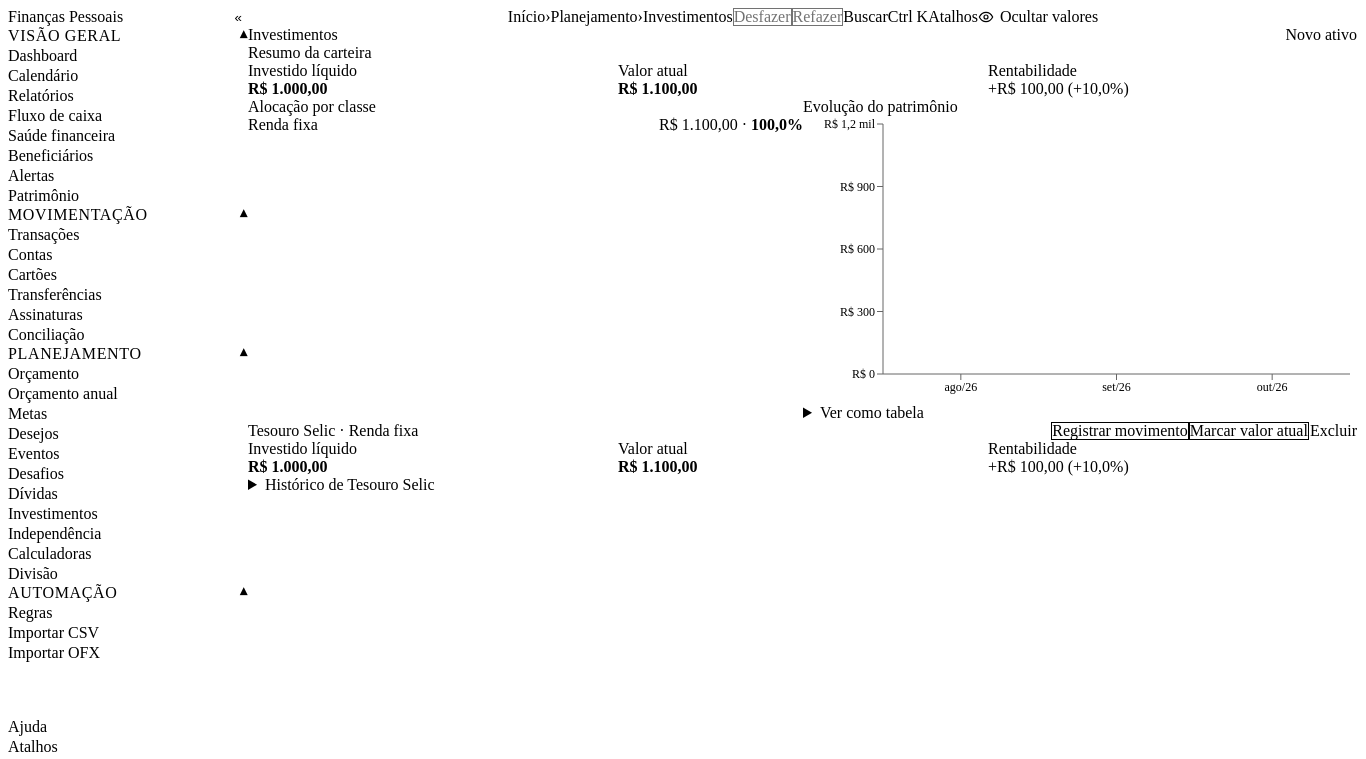
it: investimentos: tela (critérios 2, 11, 14) › critérios 5 e 7: marca o valor atual e mostra perda com sinal
Click the button with aria-label "Marcar valor atual de Tesouro Selic" at point(1249, 431), box [1189,422,1309,440]
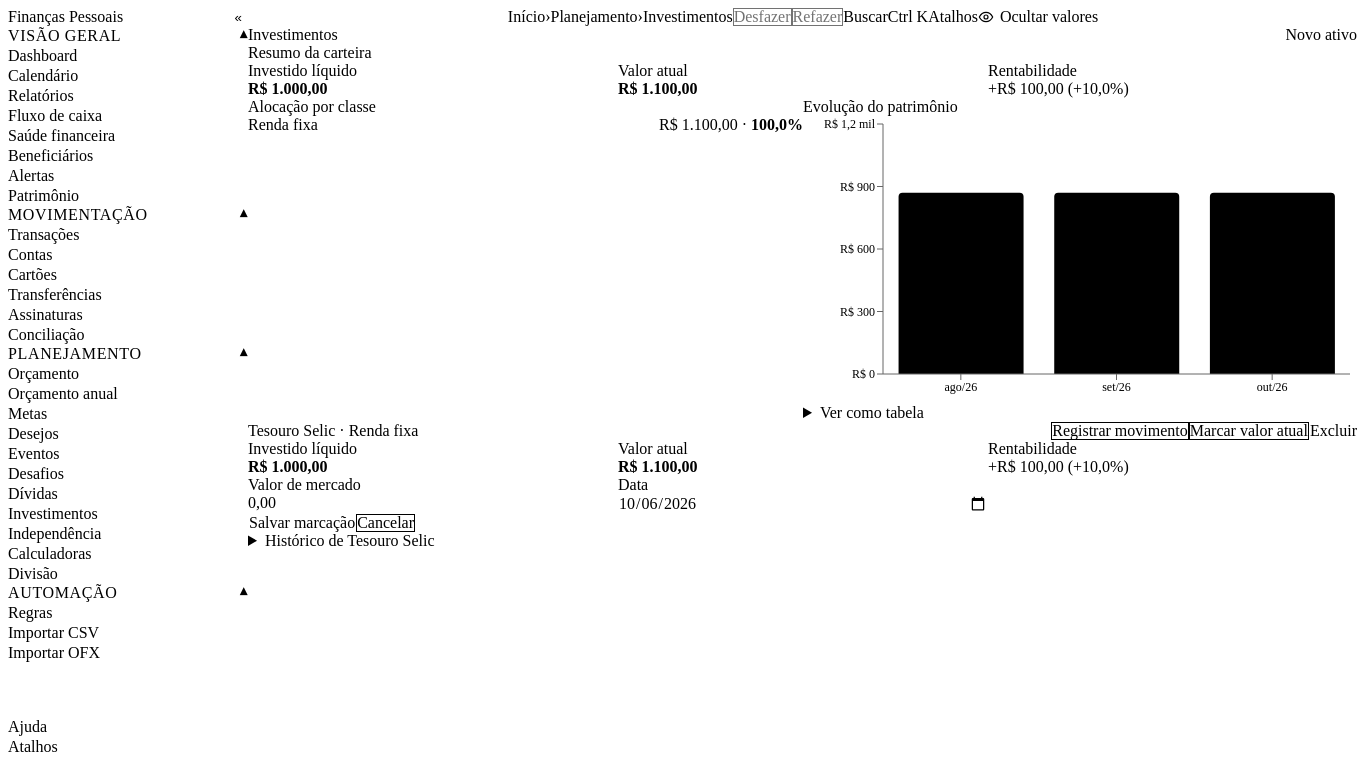
Type "800,00" into the field labelled "Valor de mercado" at point(433, 503), box [248,494,618,512]
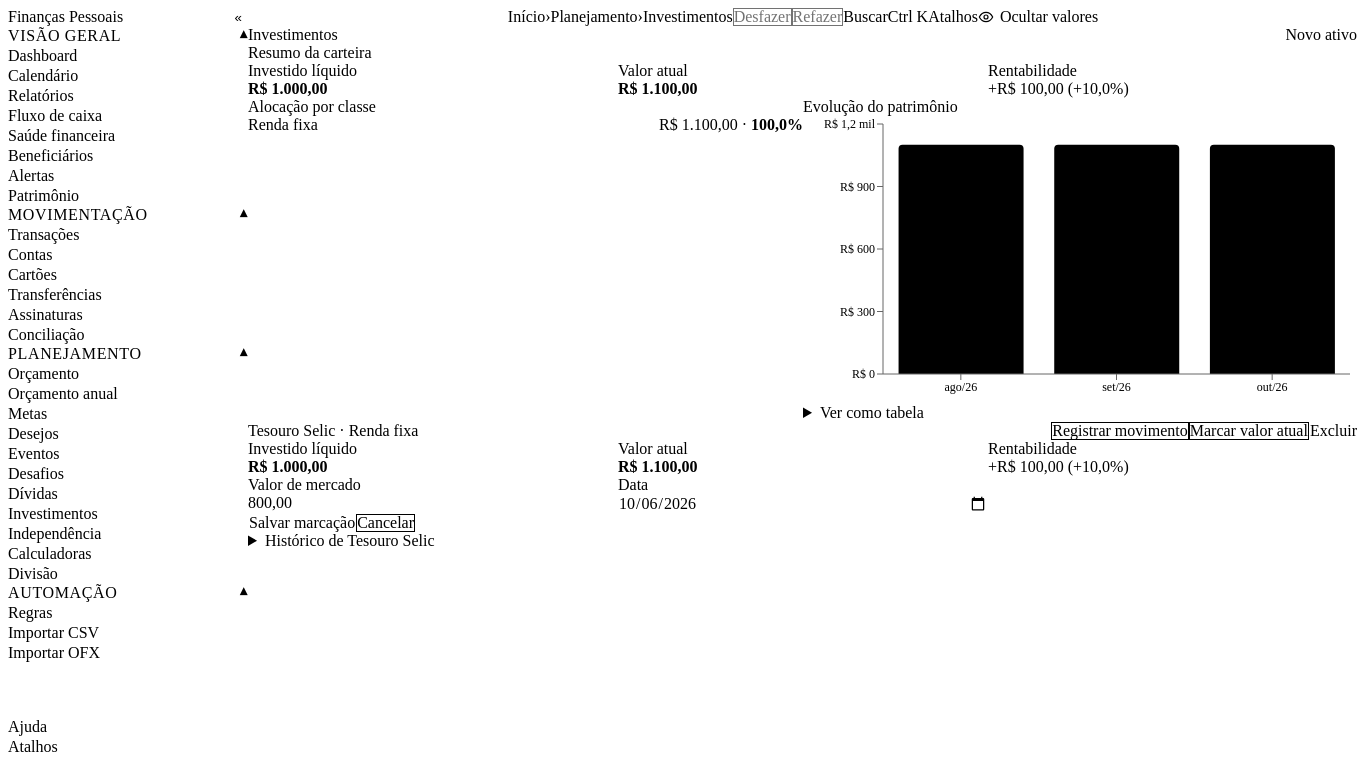
Click the button "Salvar marcação" at point(302, 523), box [248,514,356,532]
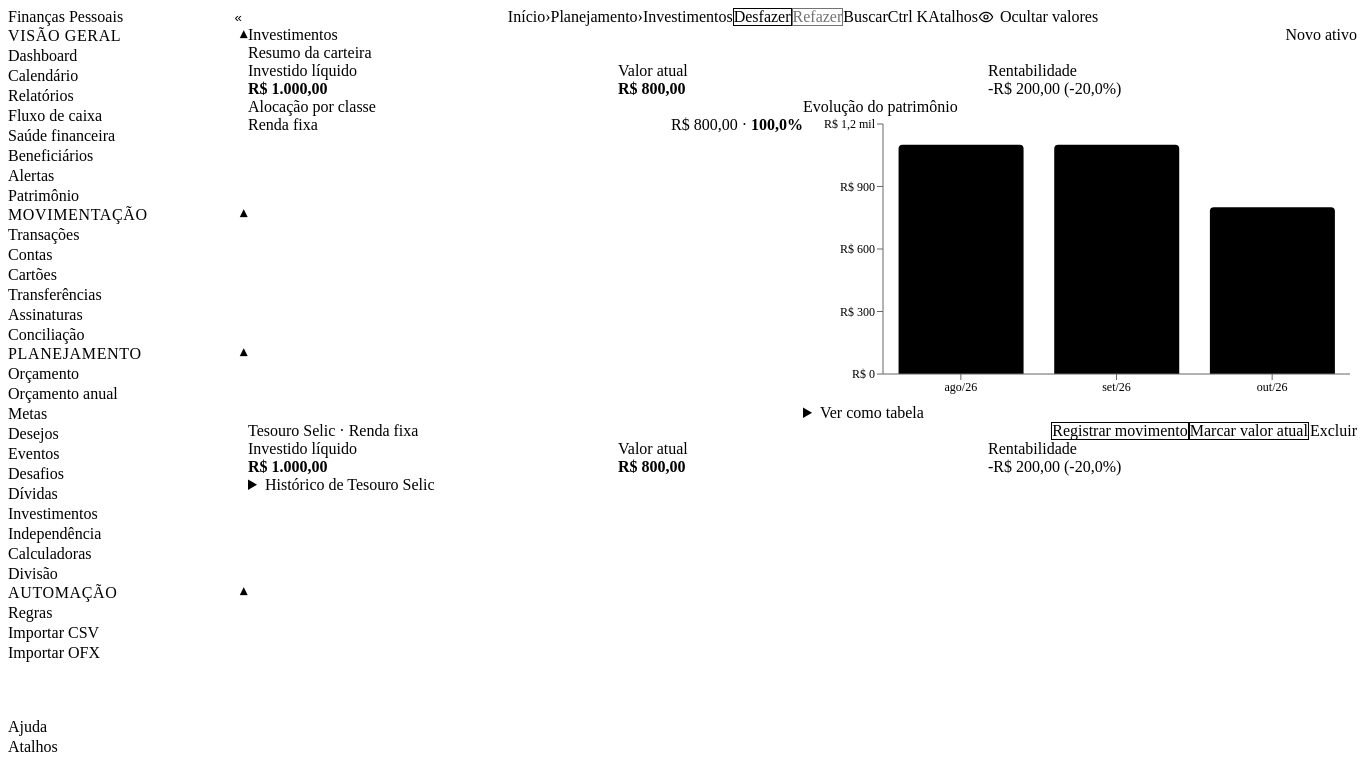
Expected: the text with test id "ativo-atual" reads "R$ 800,00", [618,458,686,475]
Expected: the text with test id "ativo-rentabilidade" reads "-R$ 200,00 (-20,0%)", [988,458,1121,475]
